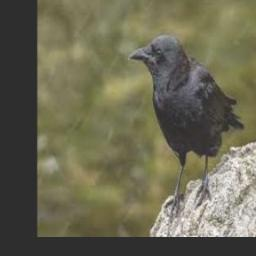Crow: (128, 35, 243, 219)
